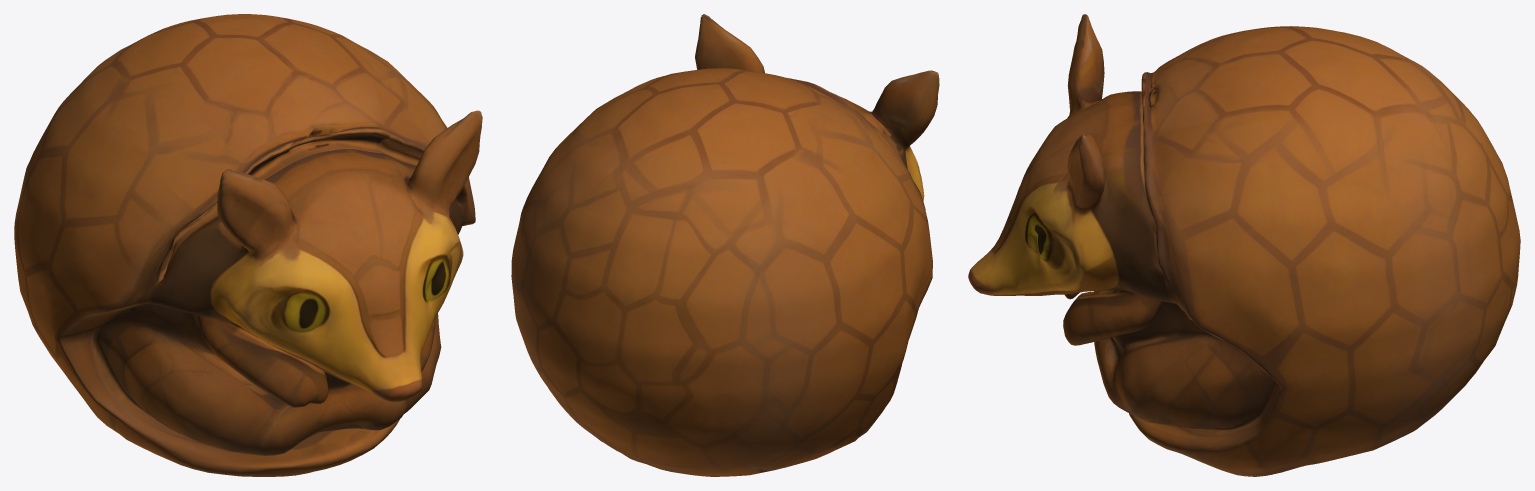
The model's file is Armadillo_Sphere.glb.
3 renders of one model, left to right at view 1: azimuth 30°, elevation 25°; view 2: azimuth 150°, elevation 25°; view 3: azimuth 270°, elevation 25°, orthographic. The views are drawn at different scales.
Size of the model in its own units: 1.63 by 1.57 by 1.99.
Materials: 1 (1 with a texture image).
